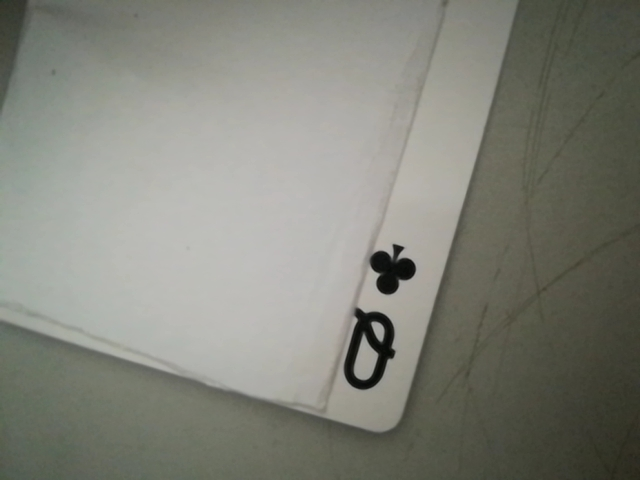mh q: (331, 235, 428, 412)
